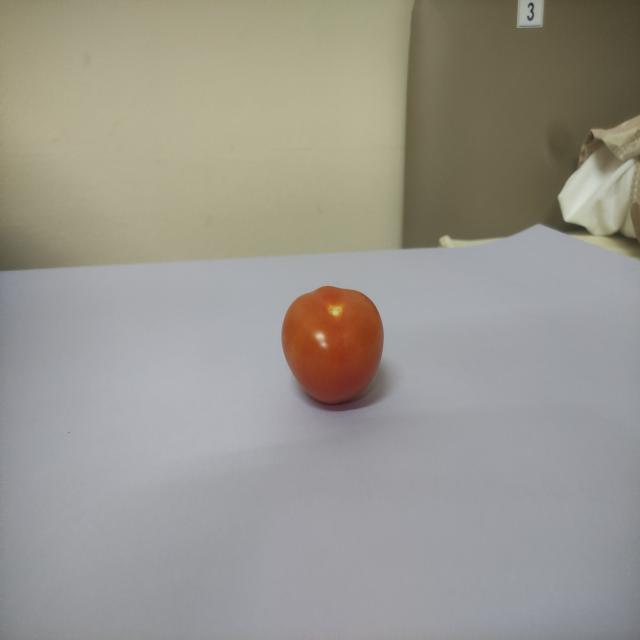sari: (266, 273, 397, 424)
